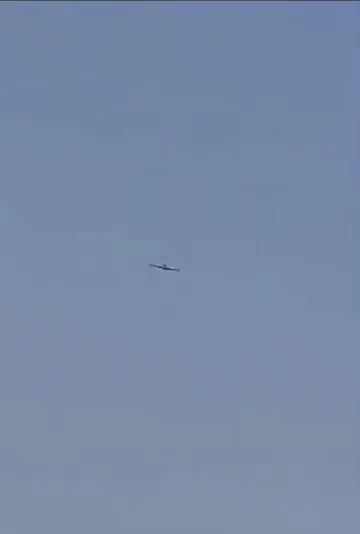shahed: (147, 261, 180, 273)
